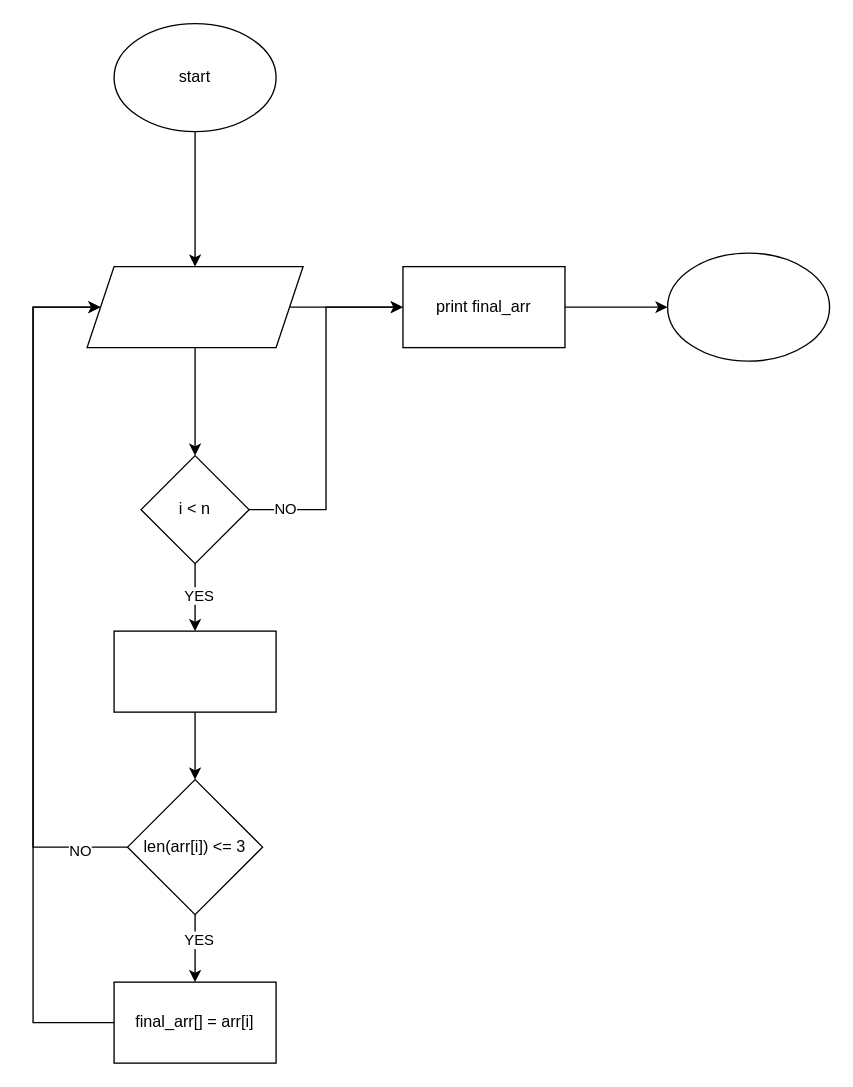
Image size: 853x1087. Some labels were removed from this diagram. Here are the shapes that lost their labels. From the top down, the centre of each, then its label:
the point at 194,306: arr = ['hello', 'world', '2'] n = 3 i = 0 final_arr = []
the point at 748,306: end
the point at 194,671: i++
